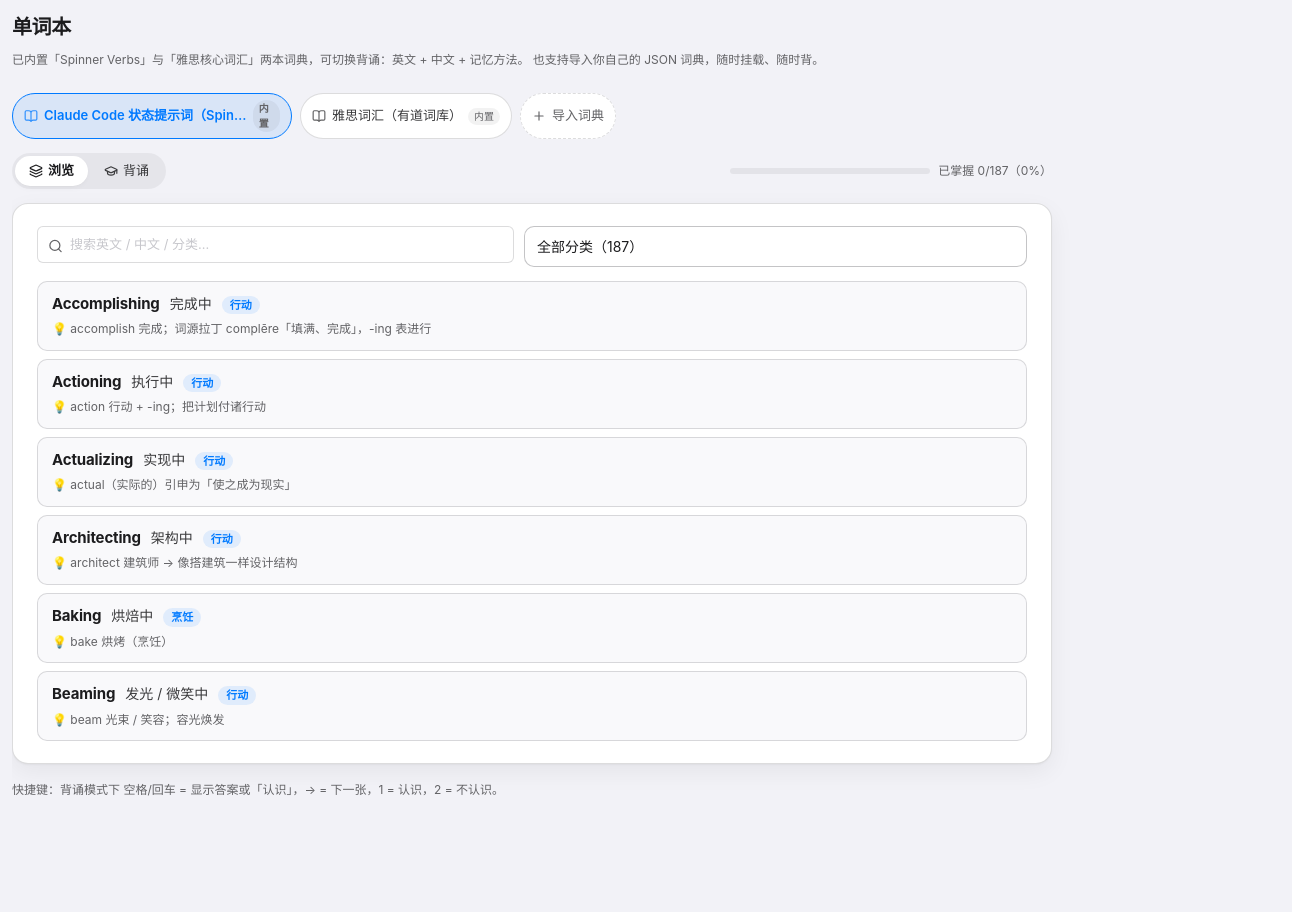
Test: DictionaryPage › does not skip the next card after marking an unknown-only card as known
Check: the text "Accomplishing" is shown, box [52,293,160,315]
Click the button "背诵" at (126, 171), box [90,156,163,186]
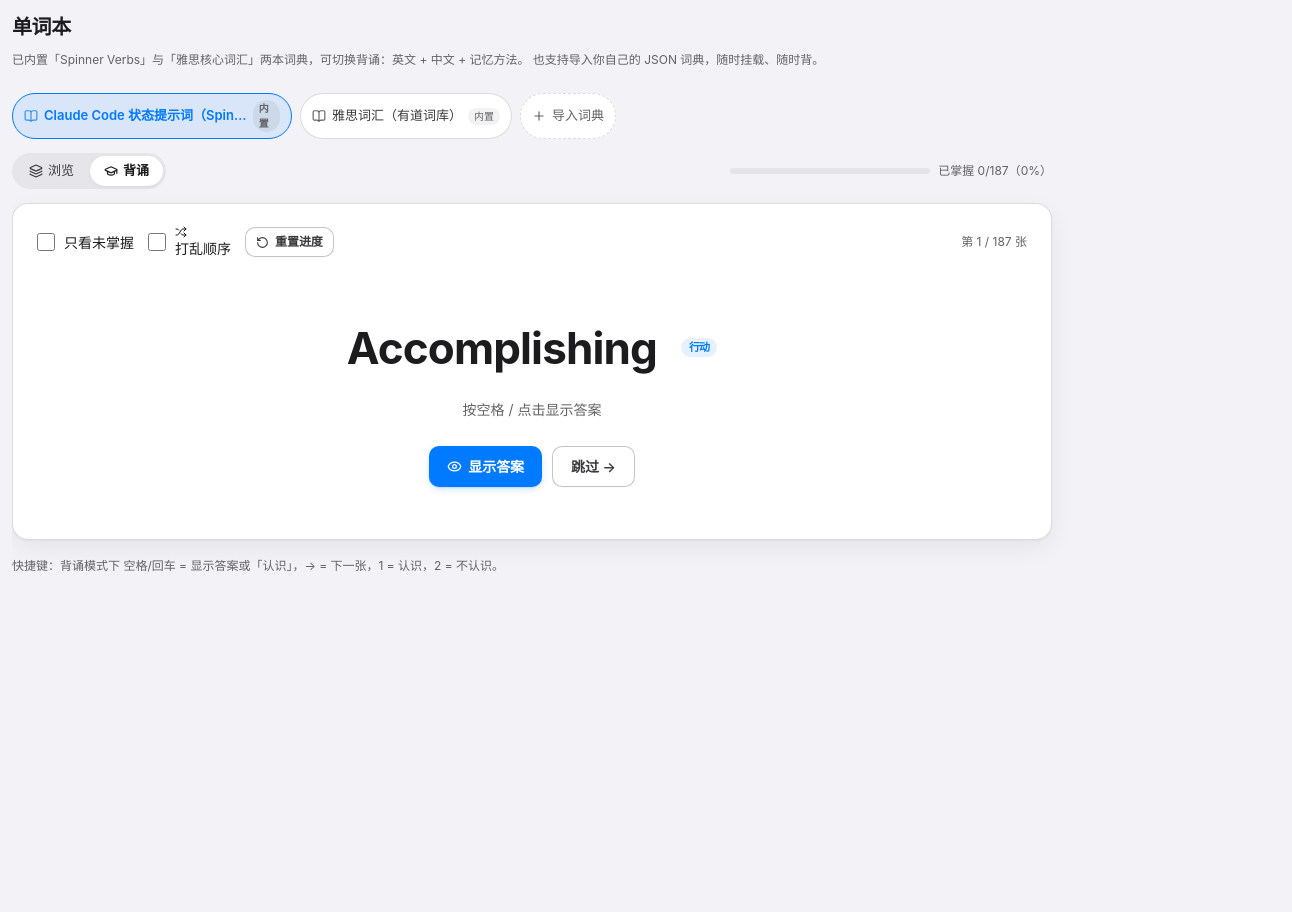
Click the checkbox labelled "只看未掌握" at (46, 242), box [37,233,55,251]
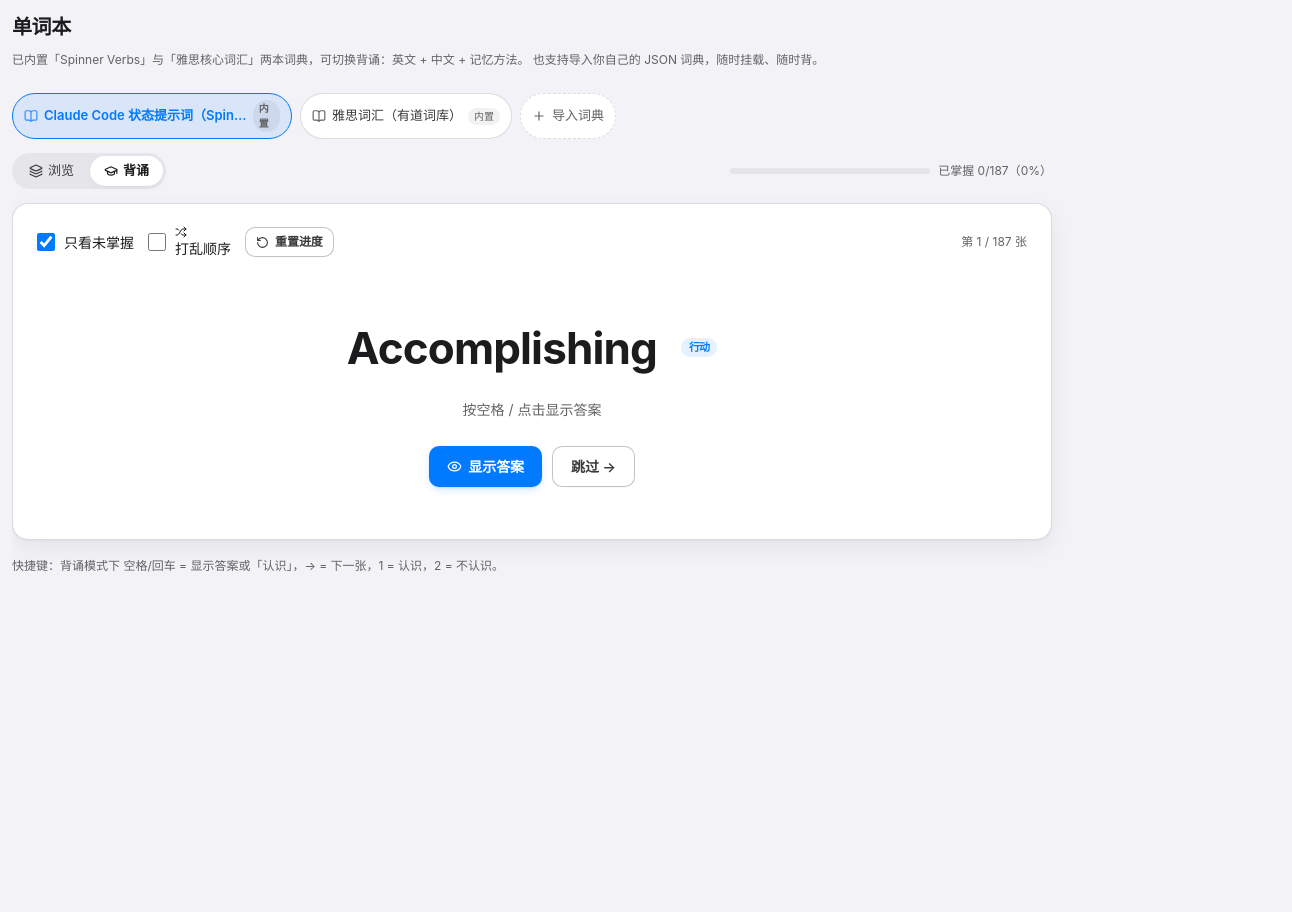
Check: the text "Accomplishing" is shown, box [347,321,657,375]
Click the button "显示答案" at (486, 466), box [429,446,542,487]
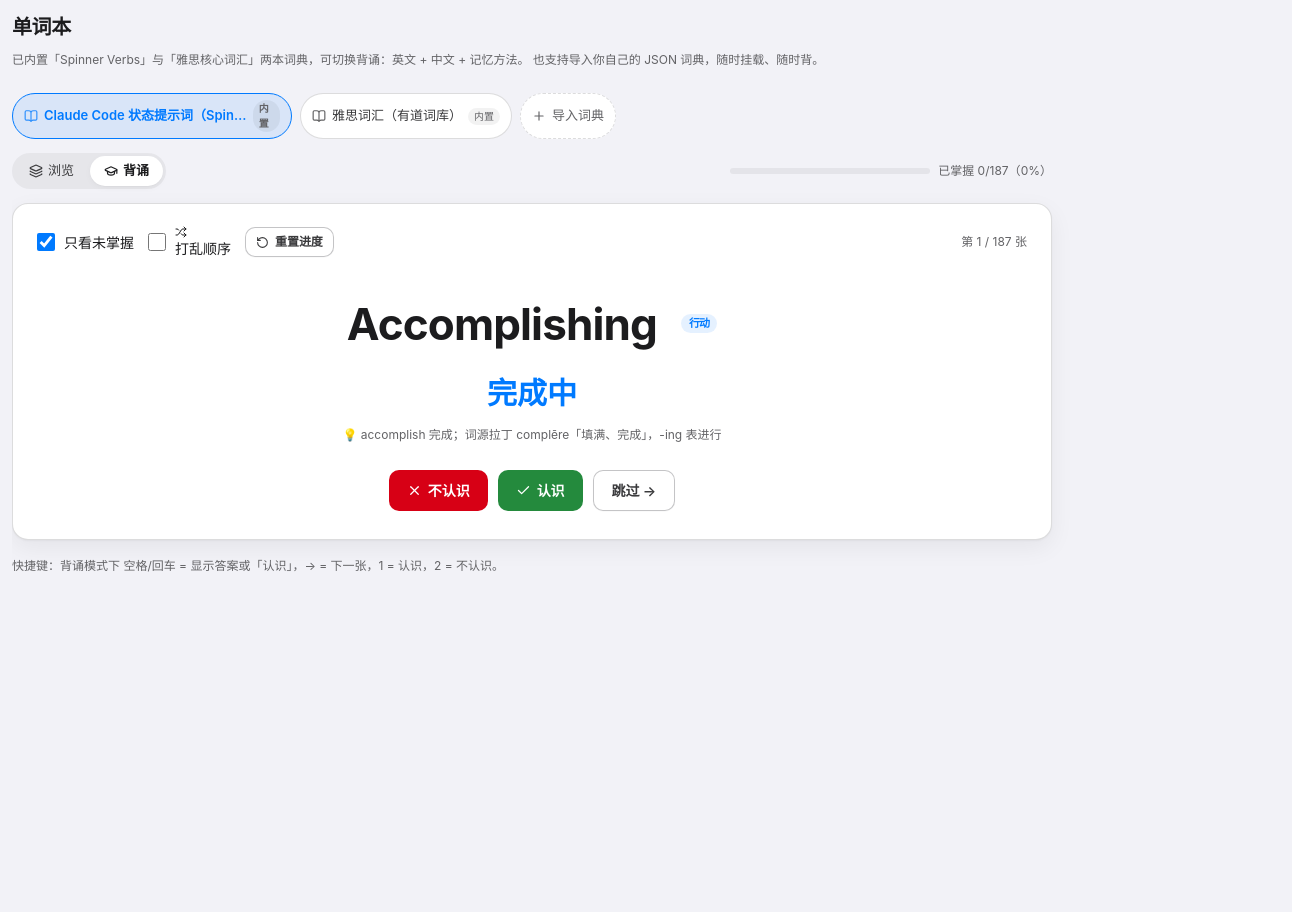
Click the button "认识" at (540, 491), box [498,470,583,511]
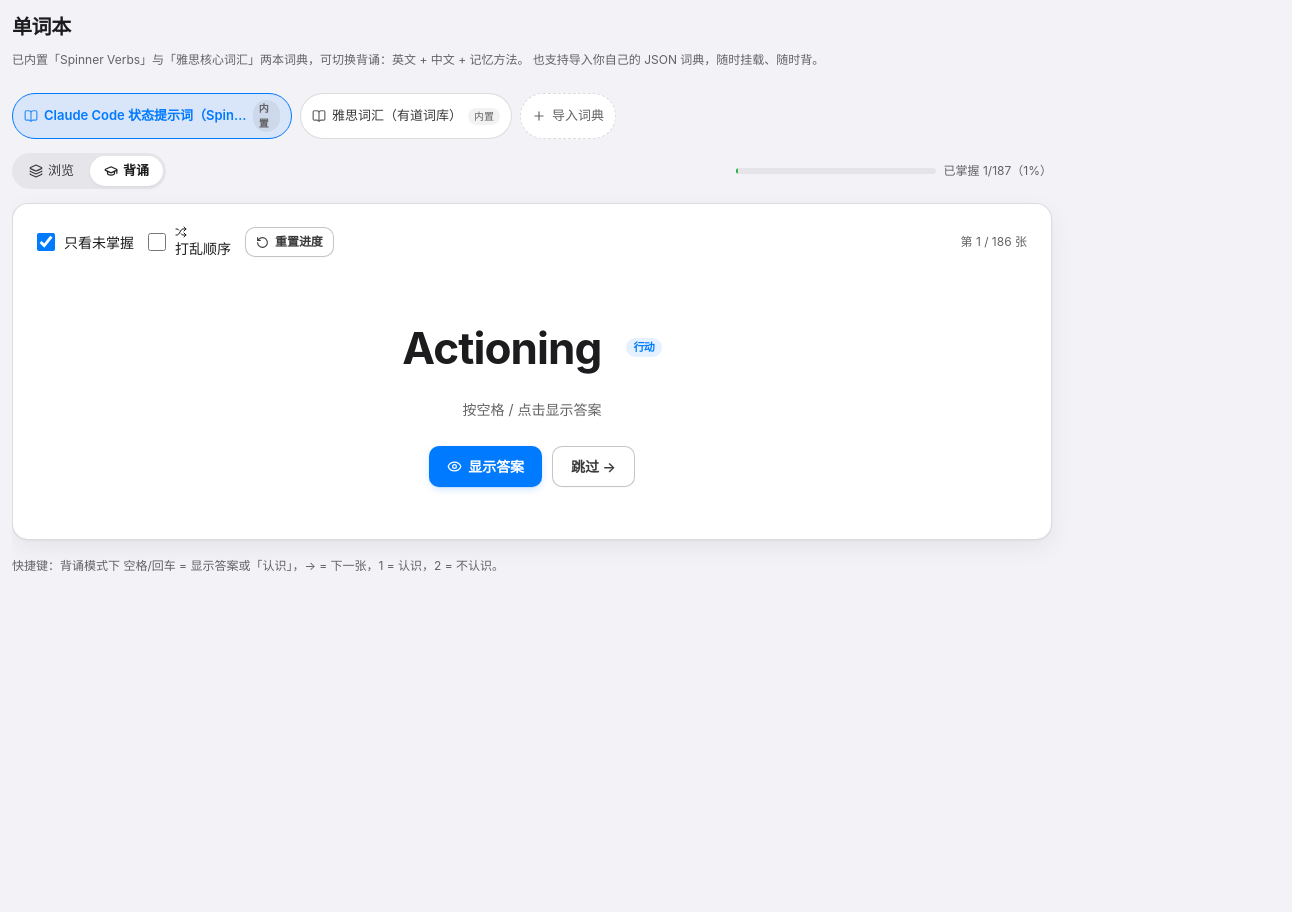
Check: the text "Accomplishing" is gone
Check: the text "Actioning" is shown, box [402,321,602,375]
